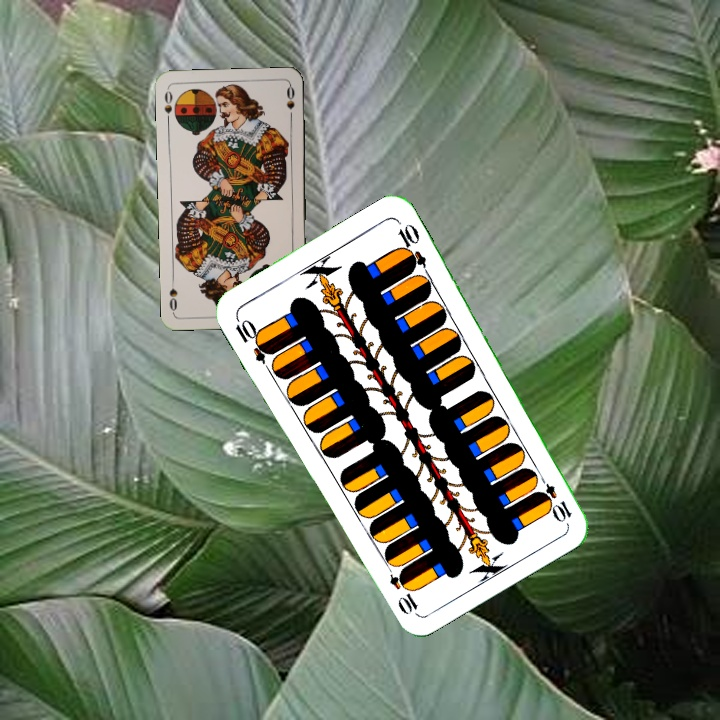E10: (532, 470, 575, 525), (231, 312, 275, 365)
SO: (160, 87, 175, 126)
